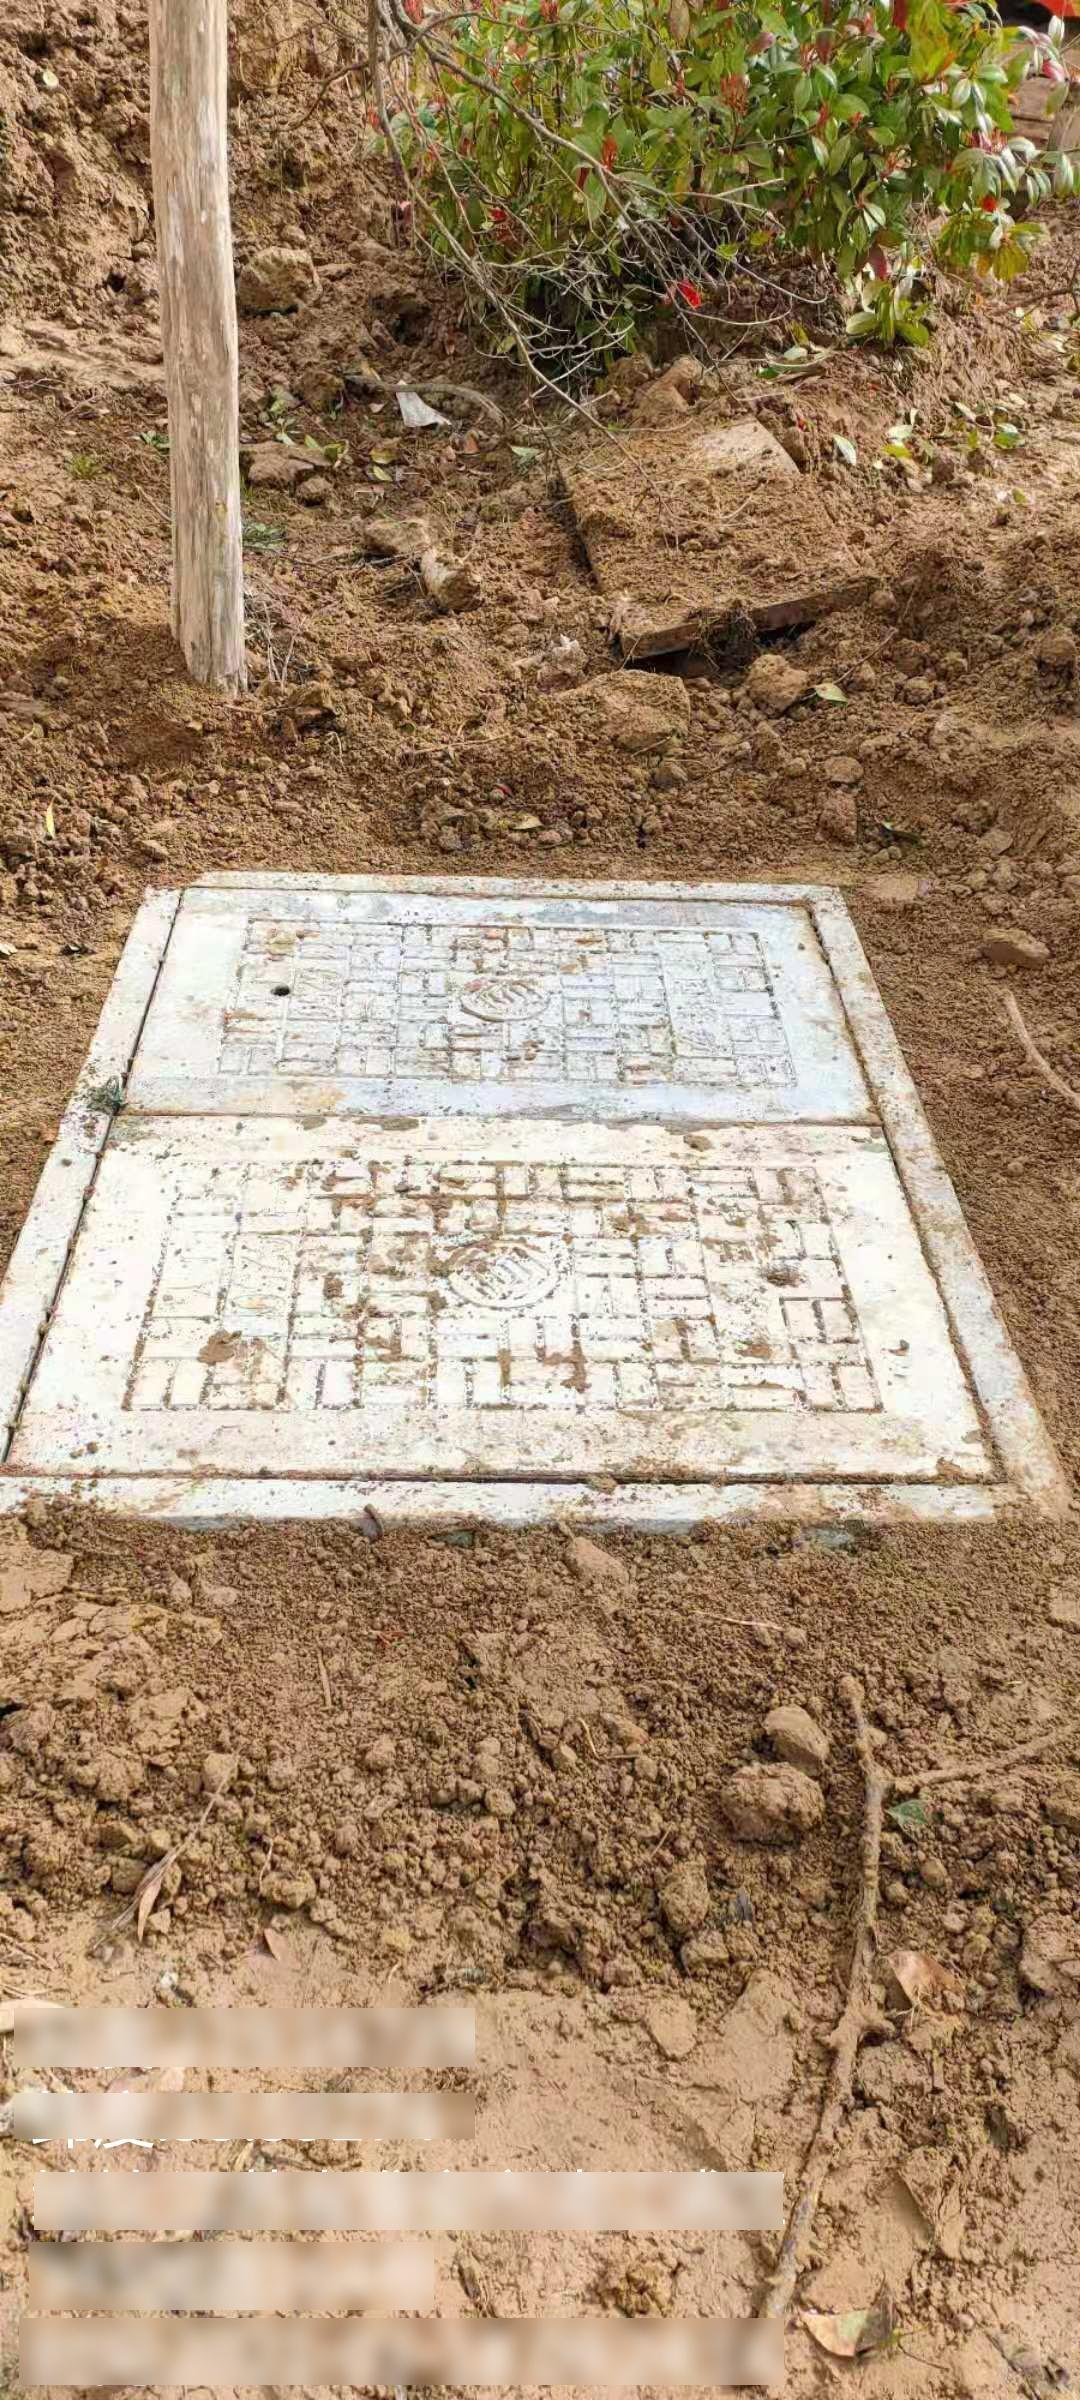wellcover: (0, 820, 1080, 1671)
